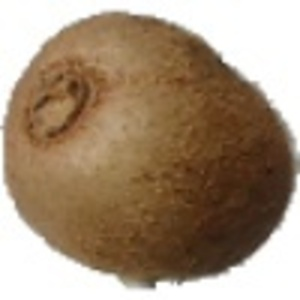kiwi: (1, 9, 300, 289)
